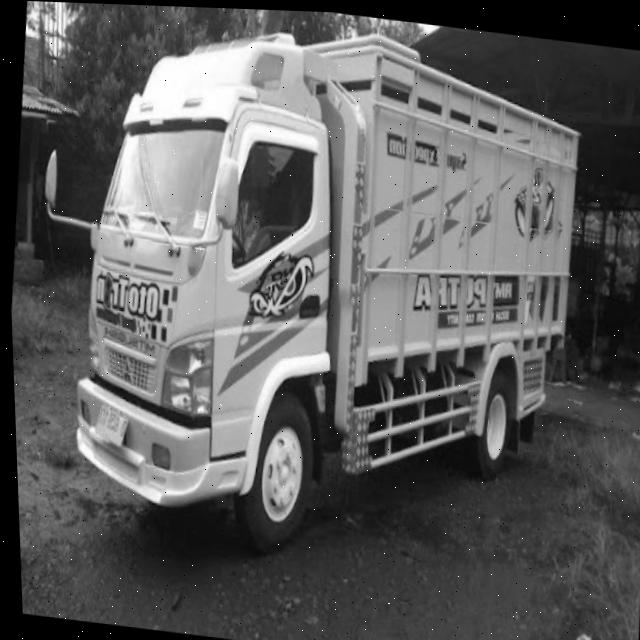truck: (10, 1, 399, 556)
